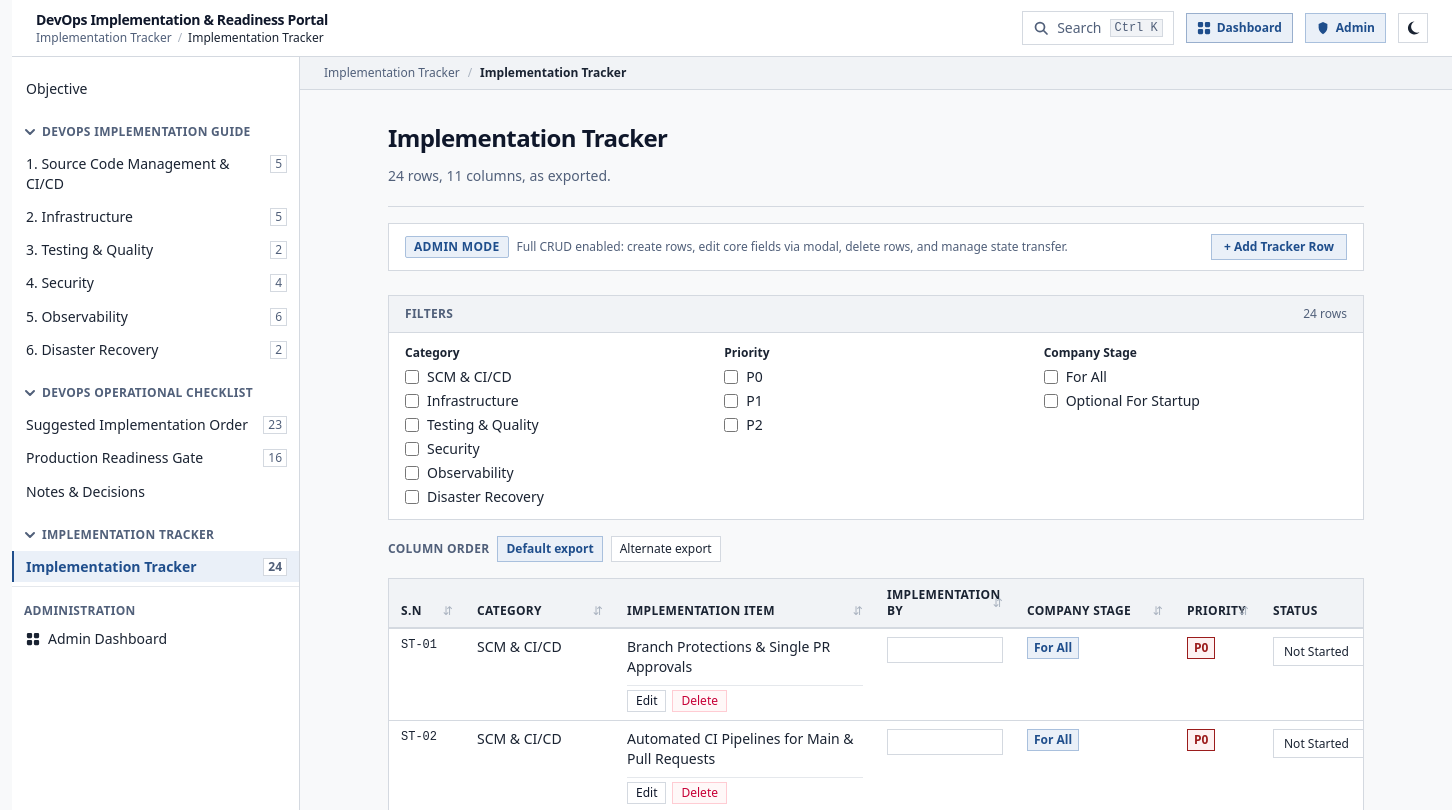
Test: tracker page — filtering › reports the match count
The image size is (1452, 810).
Expected: the text "24 rows" is shown, [1303, 306, 1347, 322]
Click the checkbox labelled "P2".
click(731, 425)  # box [724, 418, 738, 432]
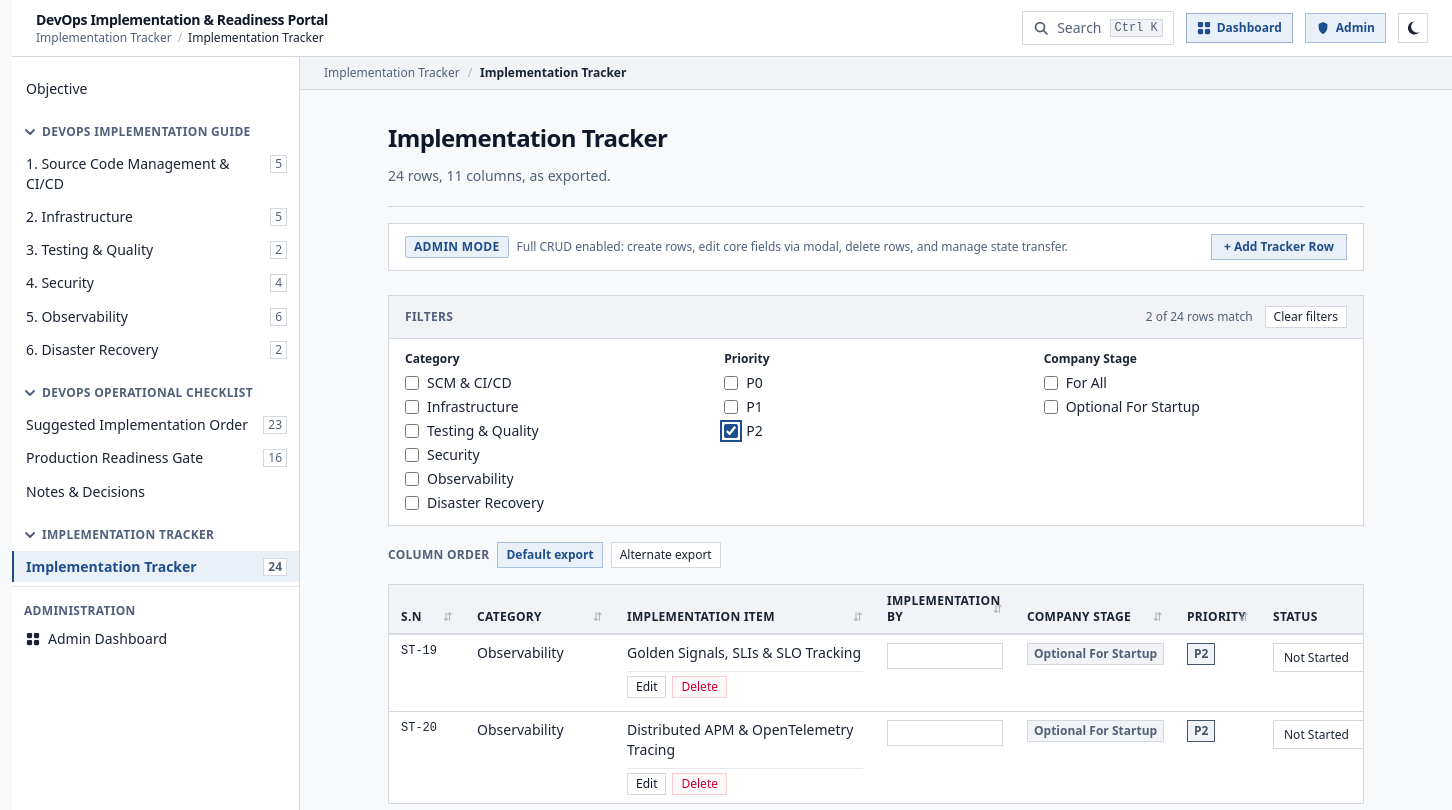
Now the text "2 of 24 rows match" is shown, box [1146, 309, 1253, 325]
